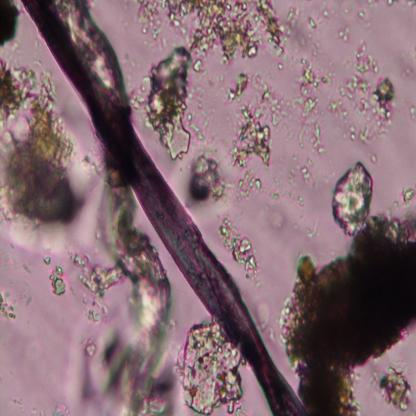Background material: (282, 215, 416, 414), (73, 182, 180, 416), (0, 55, 83, 230), (137, 0, 291, 61), (328, 40, 396, 146), (131, 49, 194, 159), (182, 318, 246, 414), (69, 257, 126, 325), (230, 102, 275, 171), (217, 219, 263, 286), (334, 160, 373, 235), (294, 59, 324, 155), (188, 153, 232, 209), (377, 367, 414, 415), (249, 75, 283, 122), (264, 168, 301, 206), (288, 16, 322, 52), (12, 271, 44, 307), (236, 170, 264, 204), (0, 1, 18, 49), (397, 40, 416, 84), (223, 72, 248, 104), (49, 264, 67, 297), (0, 285, 15, 323), (270, 213, 290, 240), (316, 2, 338, 25), (188, 112, 204, 142), (402, 186, 416, 207), (337, 26, 352, 40), (300, 165, 311, 182), (407, 104, 416, 123), (308, 17, 317, 29), (358, 9, 367, 21), (387, 0, 397, 7), (44, 257, 50, 266)
Cotton: (20, 1, 307, 415)
